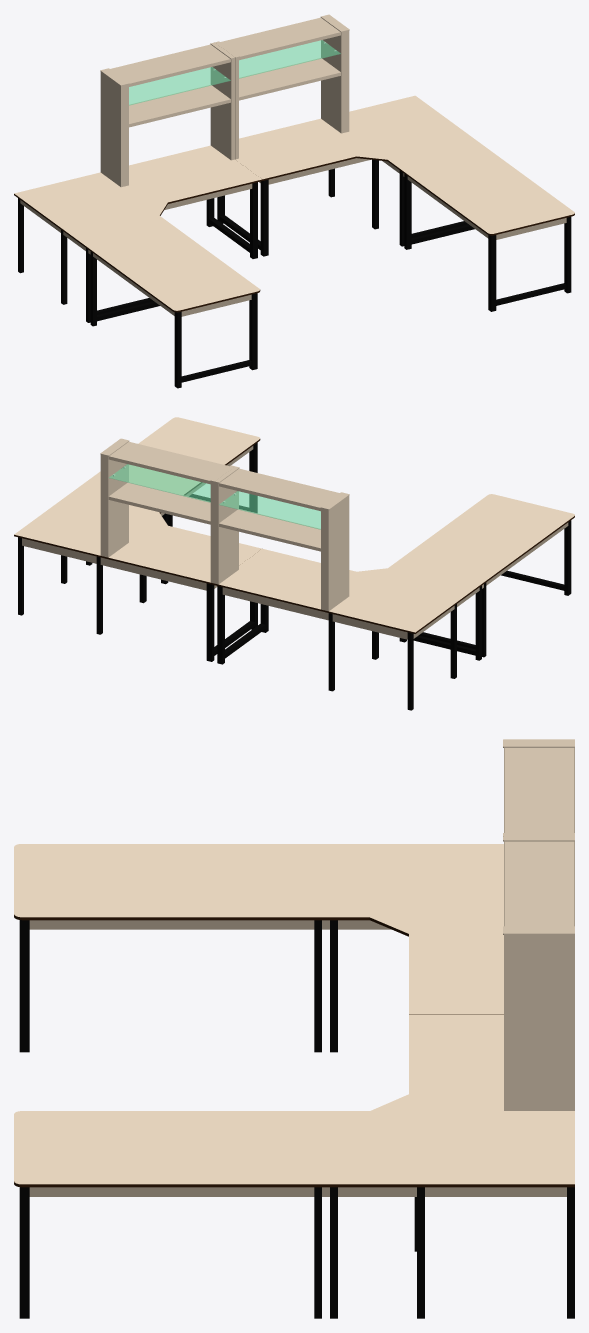
Rendered from desk@.fbx.
The picture shows the model from 3 angles, top to bottom: view 1: azimuth 30°, elevation 25°; view 2: azimuth 150°, elevation 25°; view 3: azimuth 270°, elevation 25°; orthographic projection. The views are drawn at different scales.
Parts seen in each view (by area): view 1: desk; view 2: desk; view 3: desk.
Part boxes in pixels (x1,y1,x2,y2): desk: (14,14,574,388); desk: (14,417,574,710); desk: (14,739,574,1318).
Size of the model in its own units: 510 by 220 by 355.
